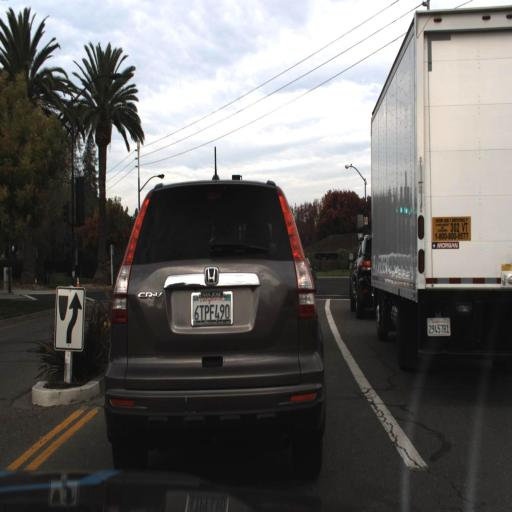car: (87, 161, 332, 475), (343, 216, 381, 318)
truck: (364, 23, 510, 370)
